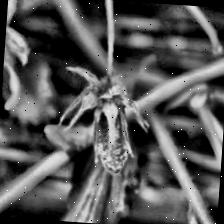Gray Mold: (54, 56, 154, 177)
